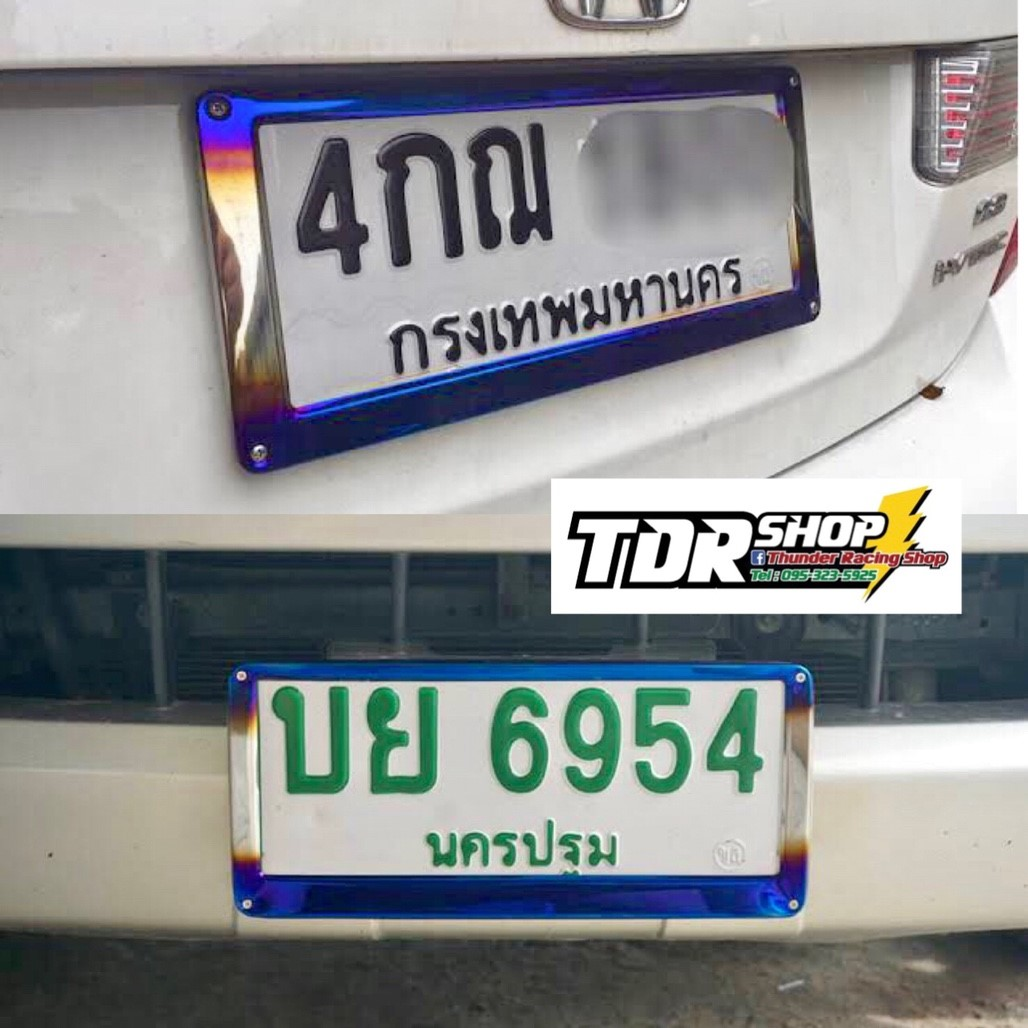Non-Bangkok: (417, 810, 637, 914)
